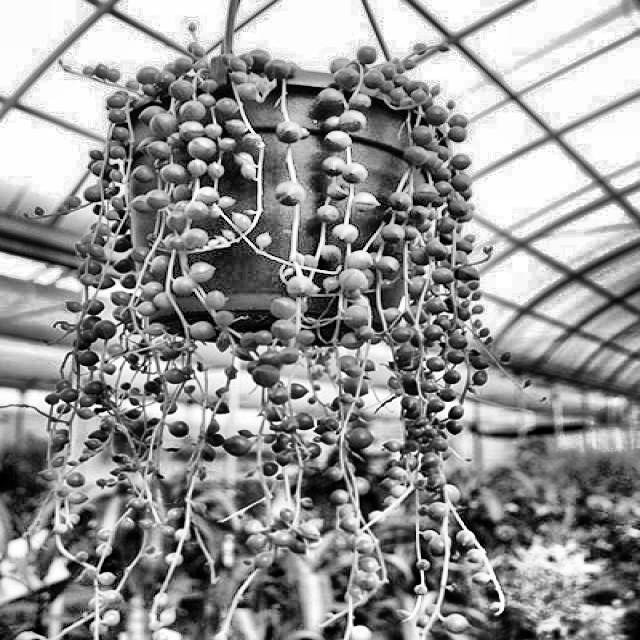plants: (67, 76, 516, 584)
